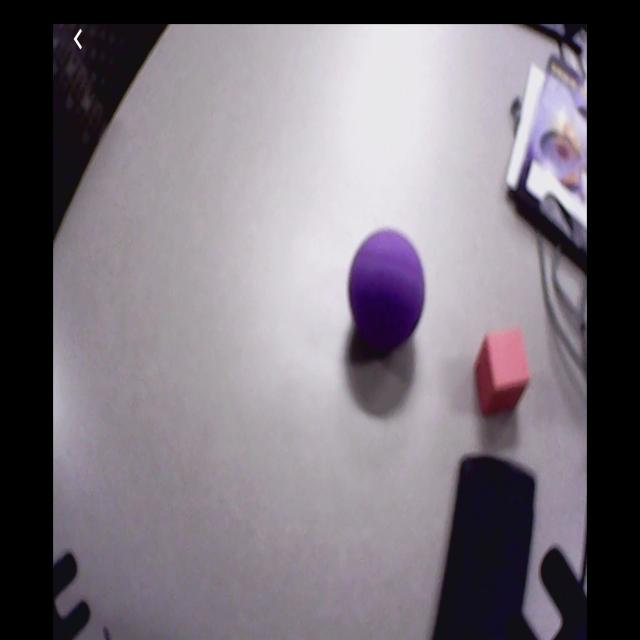ball: (349, 230, 426, 345)
